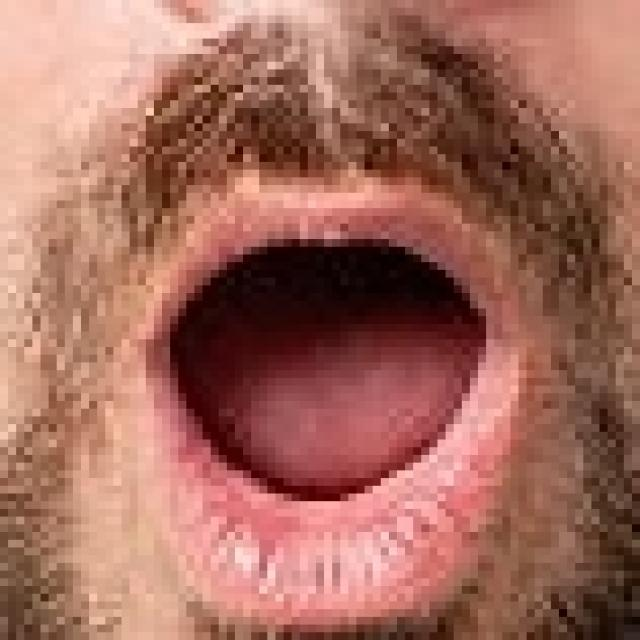open-mouth: (0, 0, 632, 632), (129, 170, 526, 632)
